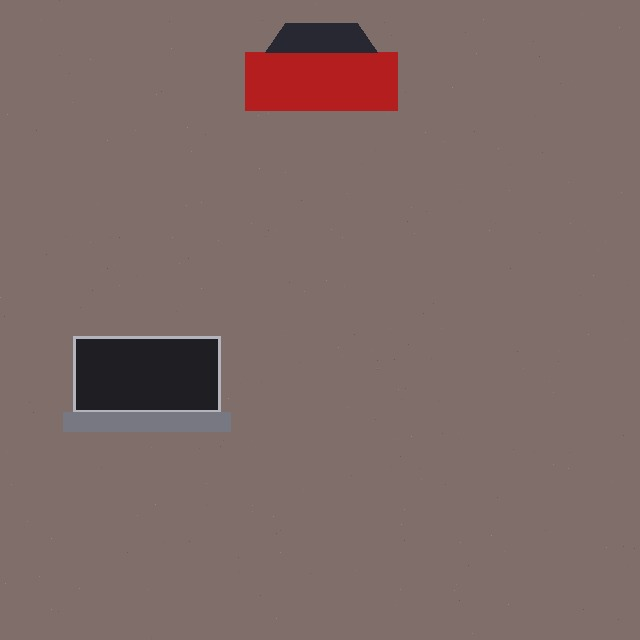laptop: (73, 336, 220, 431)
vehicle: (245, 23, 397, 110)
